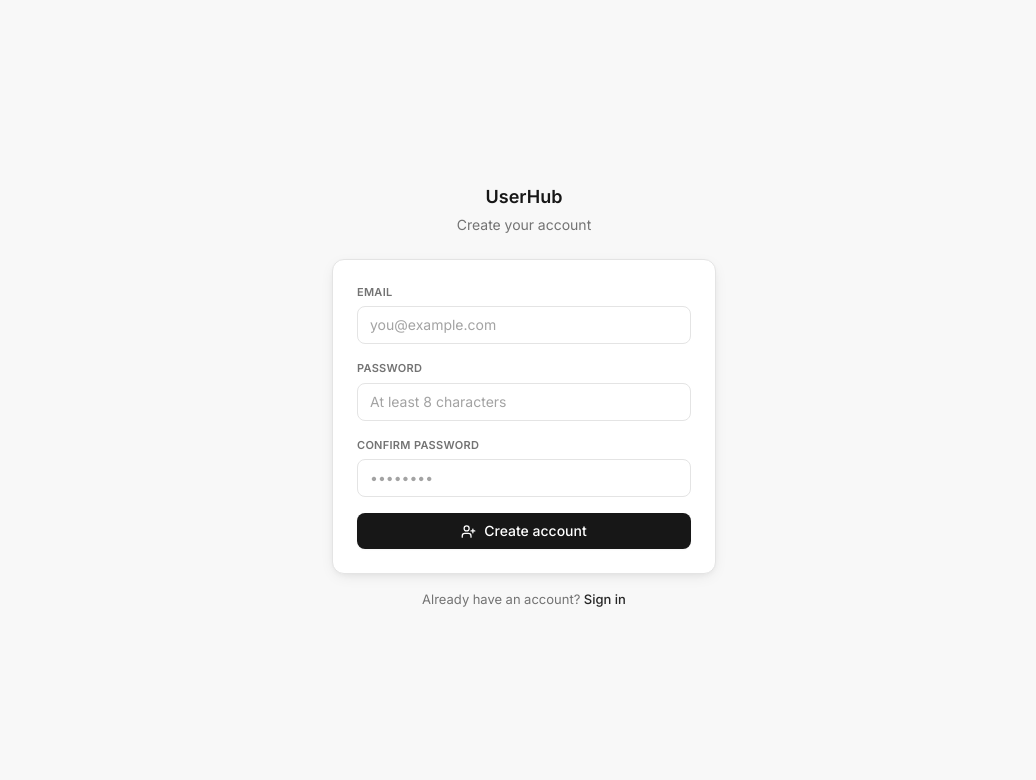
Register page › submits a new account and redirects on success
In the field labelled "Email": (524, 325) [357, 306, 691, 344], type "new@example.com"
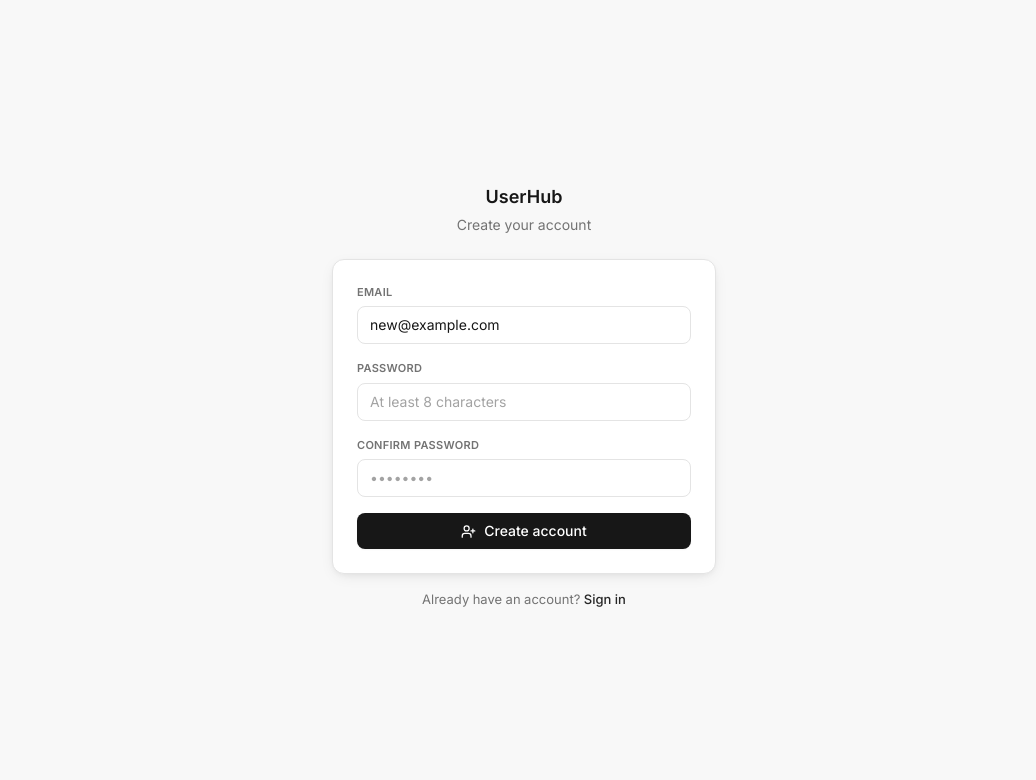
In the password field labelled "Password": (524, 402) [357, 382, 691, 420], type "password123"
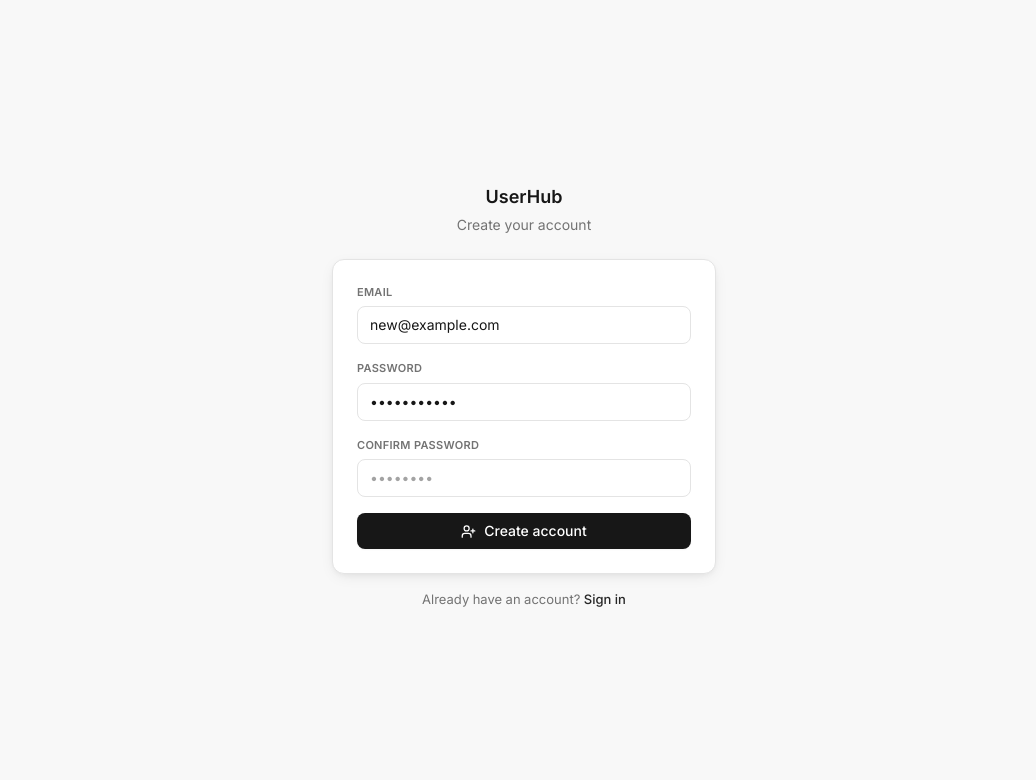
In the password field labelled "Confirm password": (524, 478) [357, 459, 691, 497], type "password123"
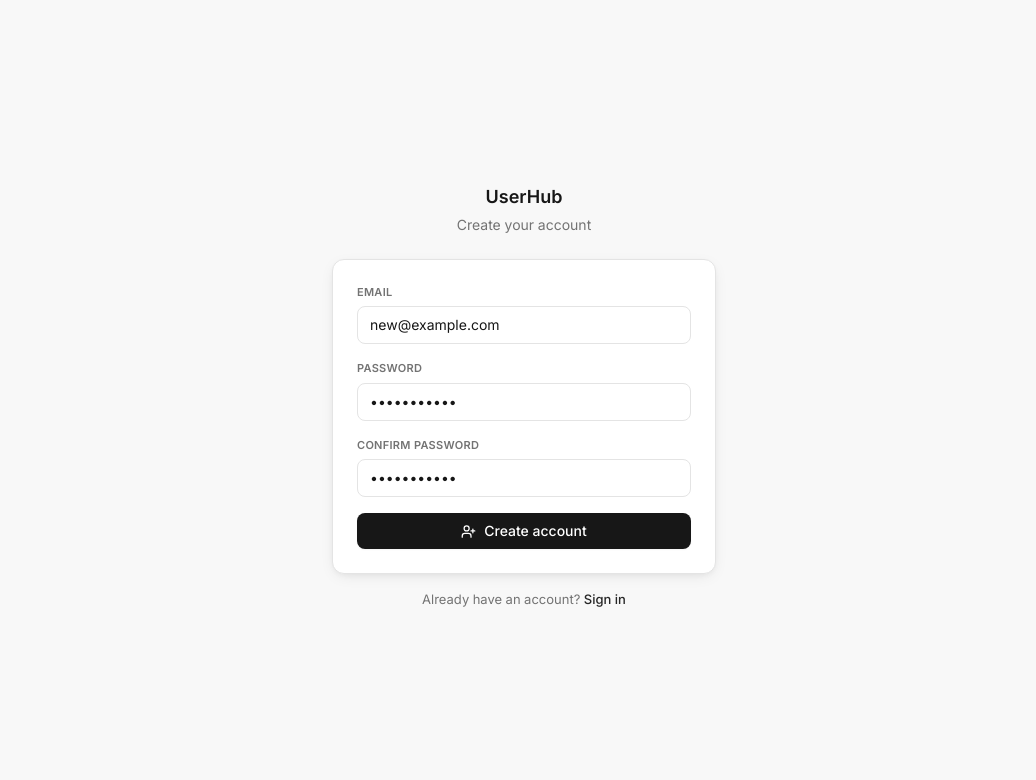
Click the button "Create account": (524, 531) [357, 513, 691, 549]
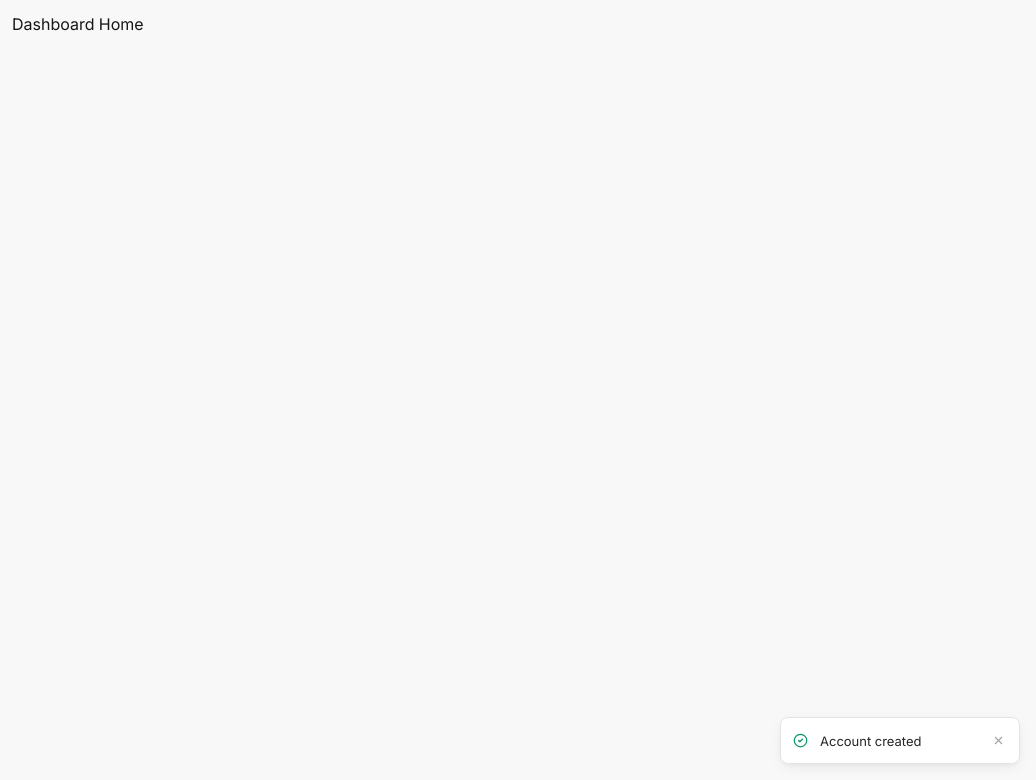
Expected: the text "Dashboard Home" is shown, [12, 14, 144, 34]
